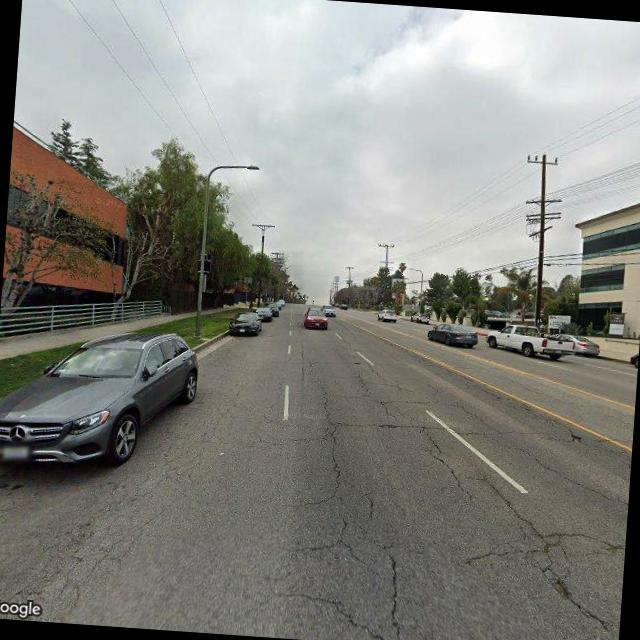crack: (261, 359, 631, 640)
